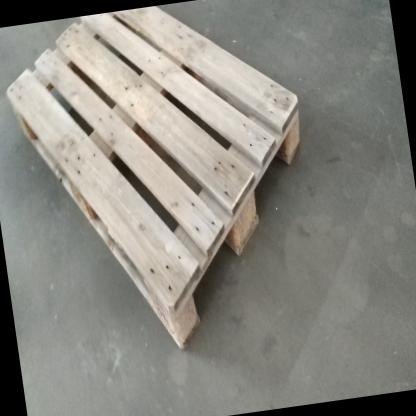BoxFace: (5, 6, 308, 364)
